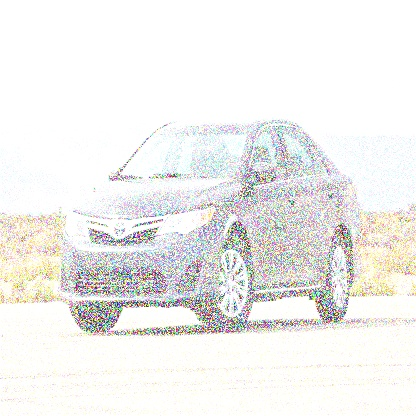Vehicle: (57, 117, 362, 334)
